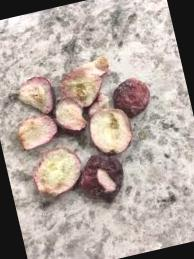Grape Rotten: (3, 45, 172, 218)
